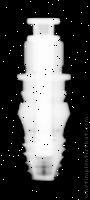Cowellmedi: (14, 18, 73, 181)
